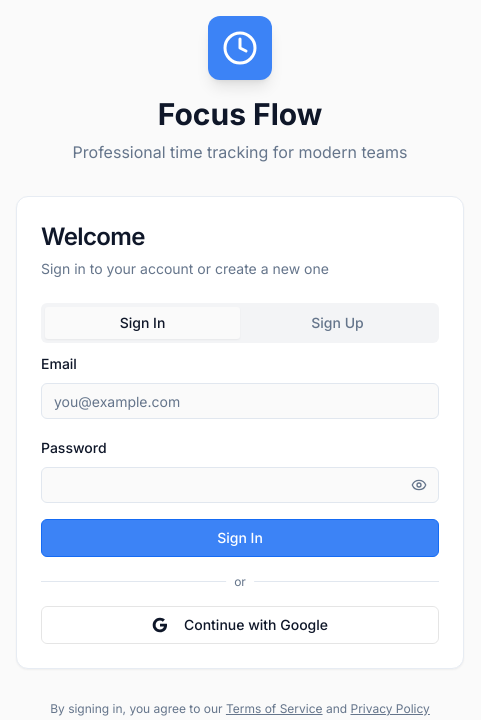
Test case: Login Page › Registration Form › should render registration form when signup tab is clicked
Click the tab with test id "tab-signup". click: (338, 323)
box: x1=240 y1=307 x2=435 y2=339
(page scrolled)
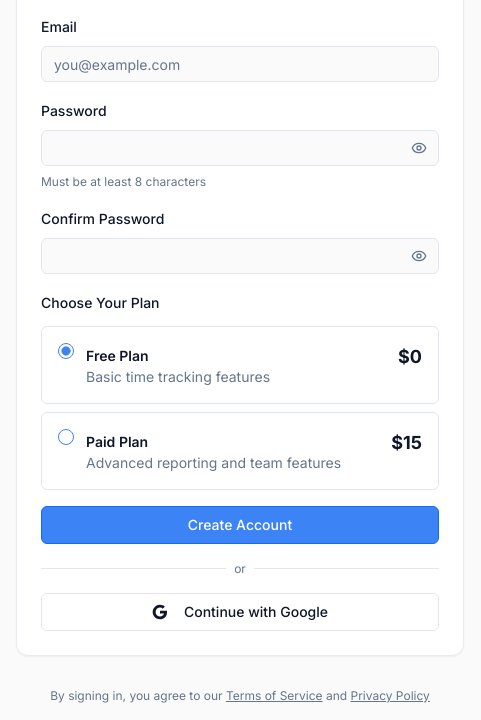
Now the field with test id "input-signup-email" is shown, box x1=41 y1=46 x2=439 y2=82
Now the password field with test id "input-signup-password" is shown, box x1=41 y1=130 x2=439 y2=166
Now the password field with test id "input-signup-confirm-password" is shown, box x1=41 y1=238 x2=439 y2=274
